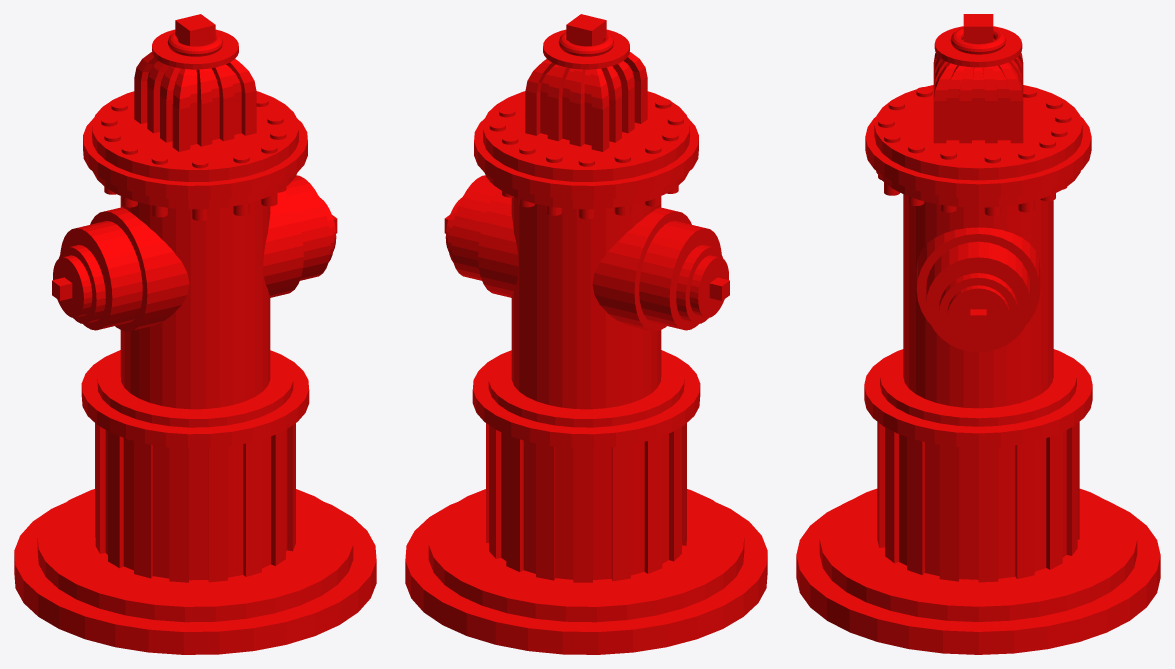
The model's file is firehydrant (1).fbx.
3 views of the same model, side by side, from view 1: azimuth 30°, elevation 25°; view 2: azimuth 150°, elevation 25°; view 3: azimuth 270°, elevation 25° (orthographic).
Visible parts, largest first — view 1: Cylinder.008; view 2: Cylinder.008; view 3: Cylinder.008.
Part boxes in pixels (x1,y1,x2,y2): Cylinder.008: [14, 14, 376, 654]; Cylinder.008: [405, 14, 767, 654]; Cylinder.008: [796, 14, 1160, 654].
Size of the model in its own units: 200 by 338 by 200.
Materials: 1 (1 with a texture image).
